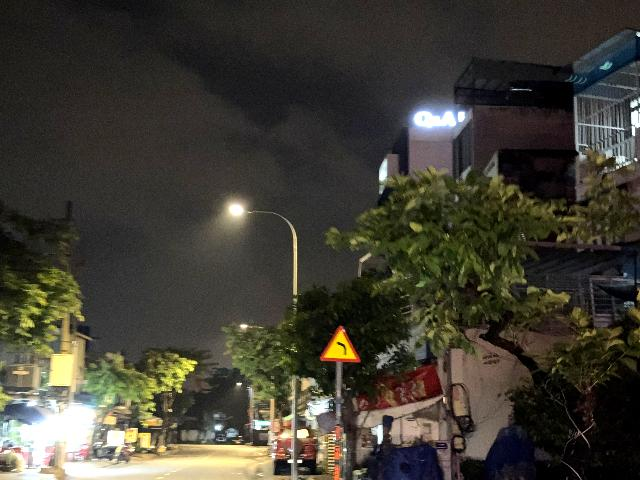cho-ngoat-nguy-hiem-ben-trai: (319, 325, 361, 363)
